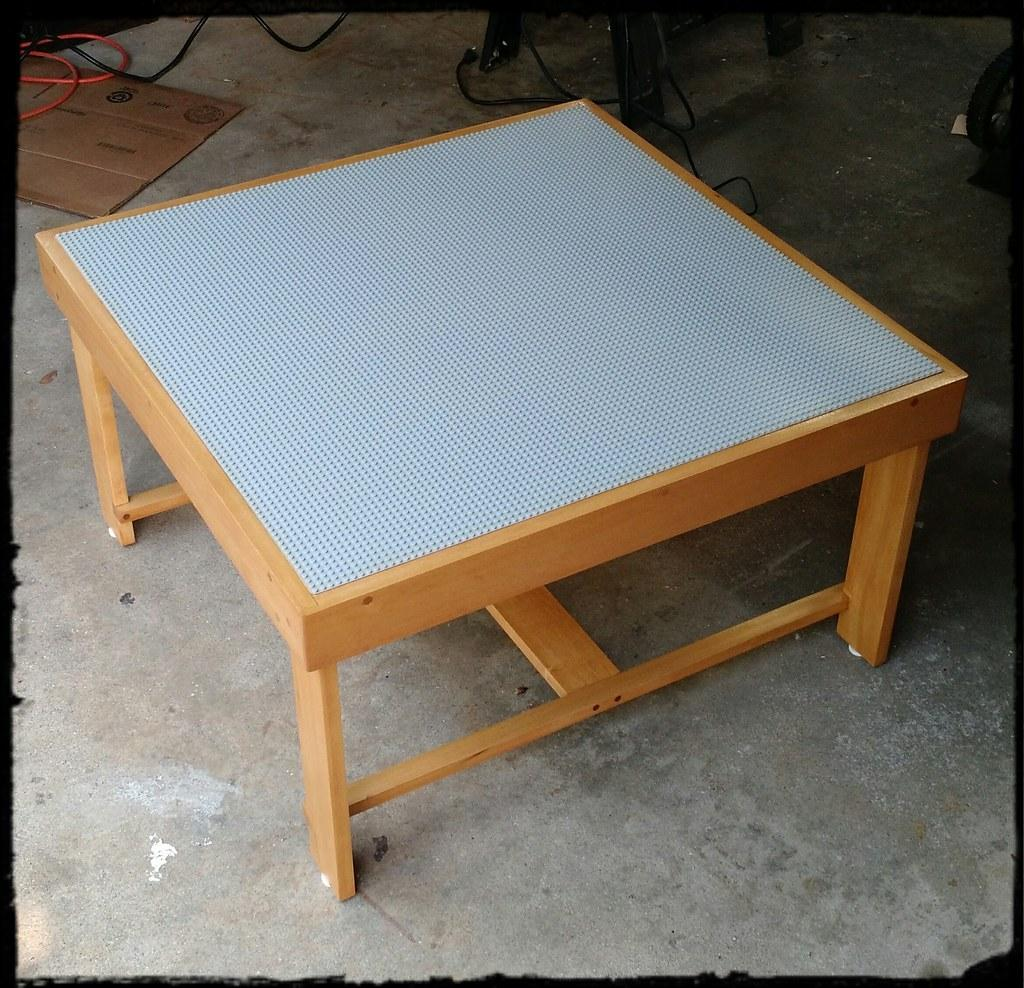table: (35, 94, 970, 902)
